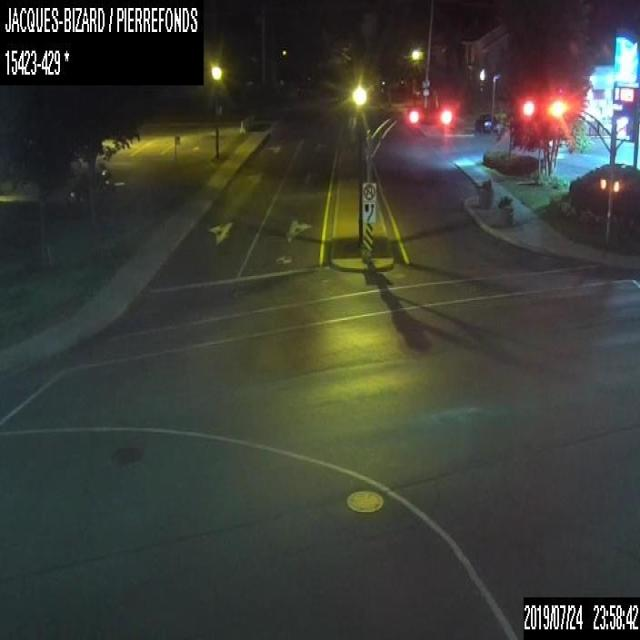vehicle: (66, 164, 110, 211), (474, 113, 499, 132)
